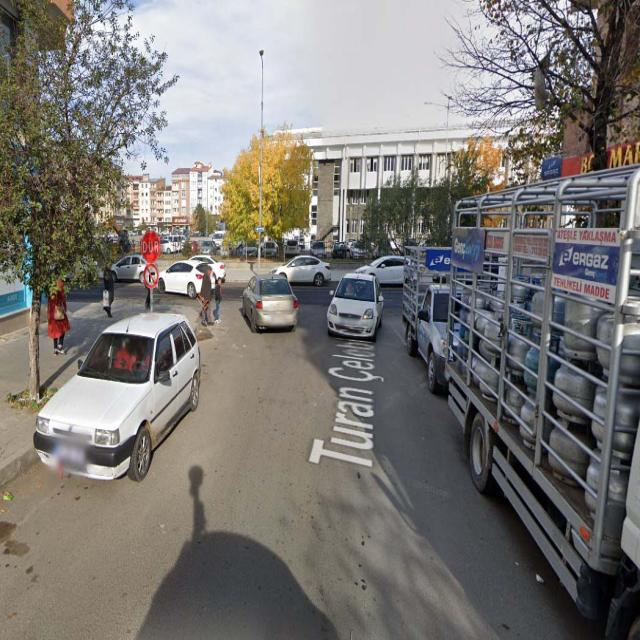dur: (142, 231, 159, 263)
sagadonulmez: (145, 265, 159, 287)
